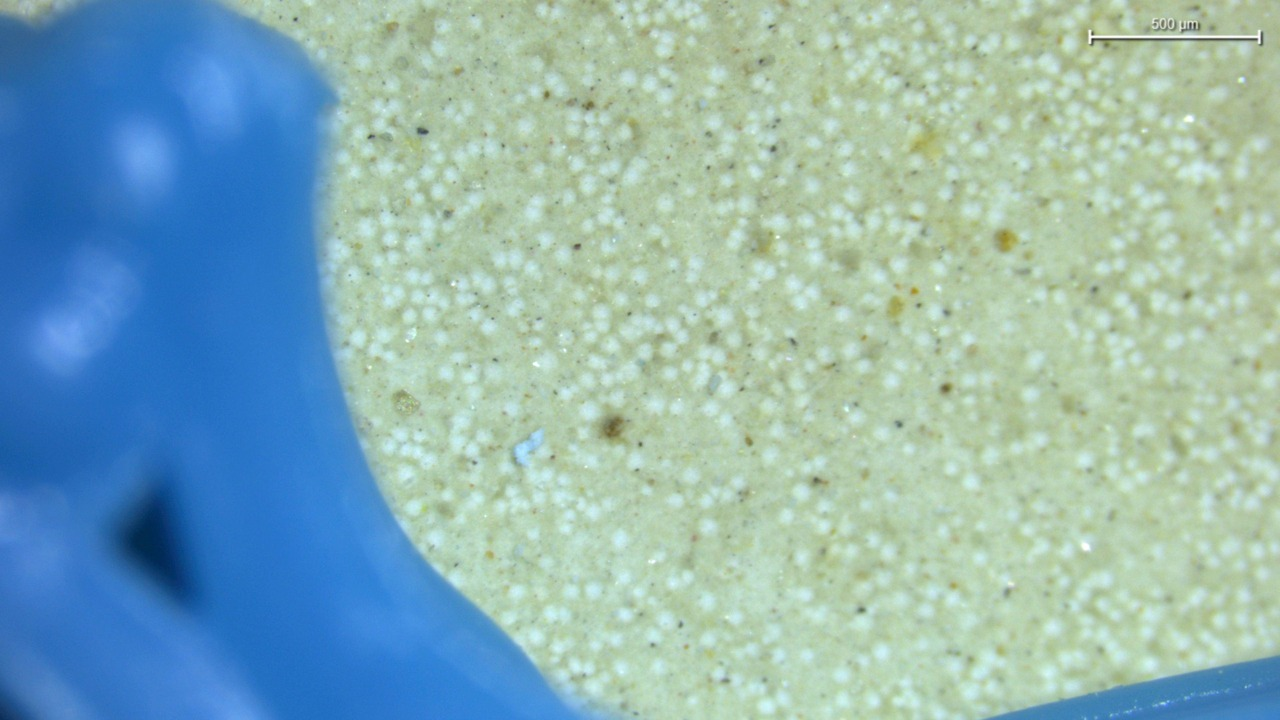microplastic_fragment: (513, 428, 544, 466)
